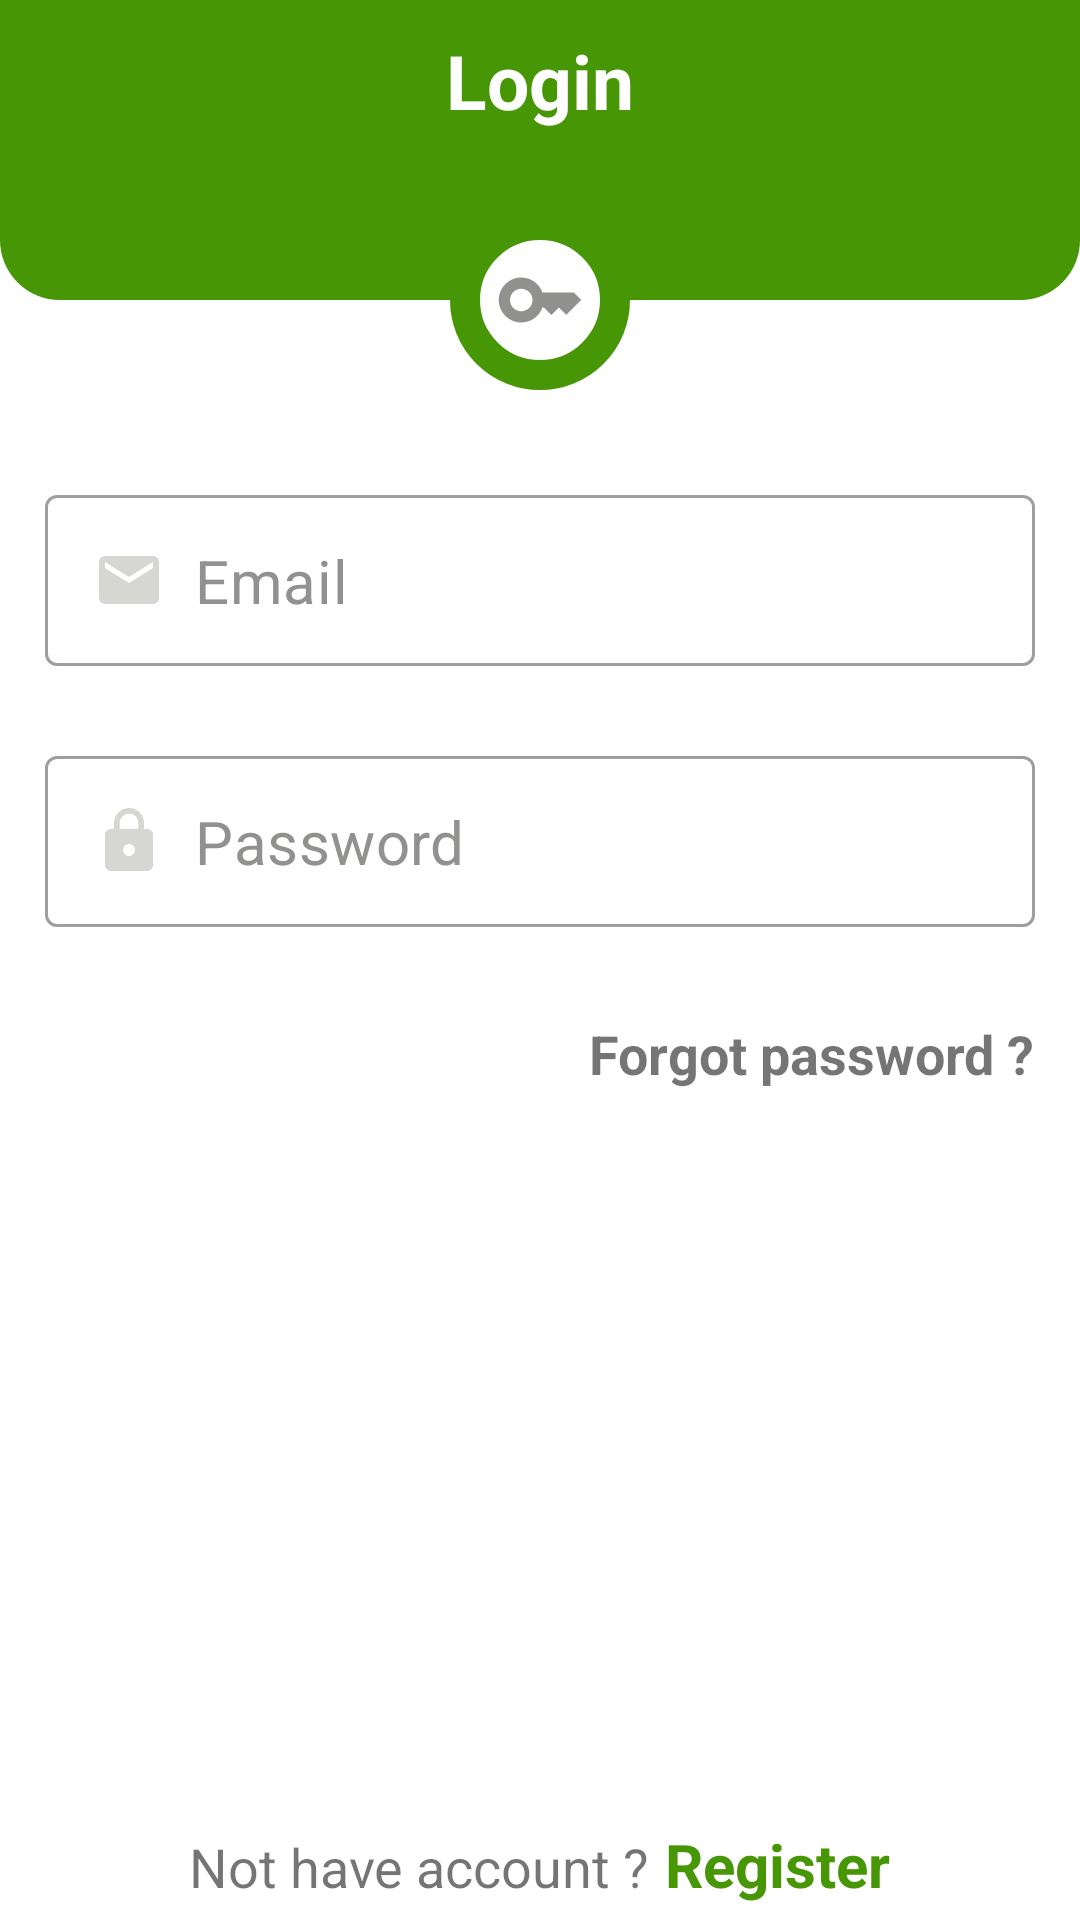

Icon click points for this 1080w x 1920h phone screenshot, format [x,y]:
key: [540,300]
